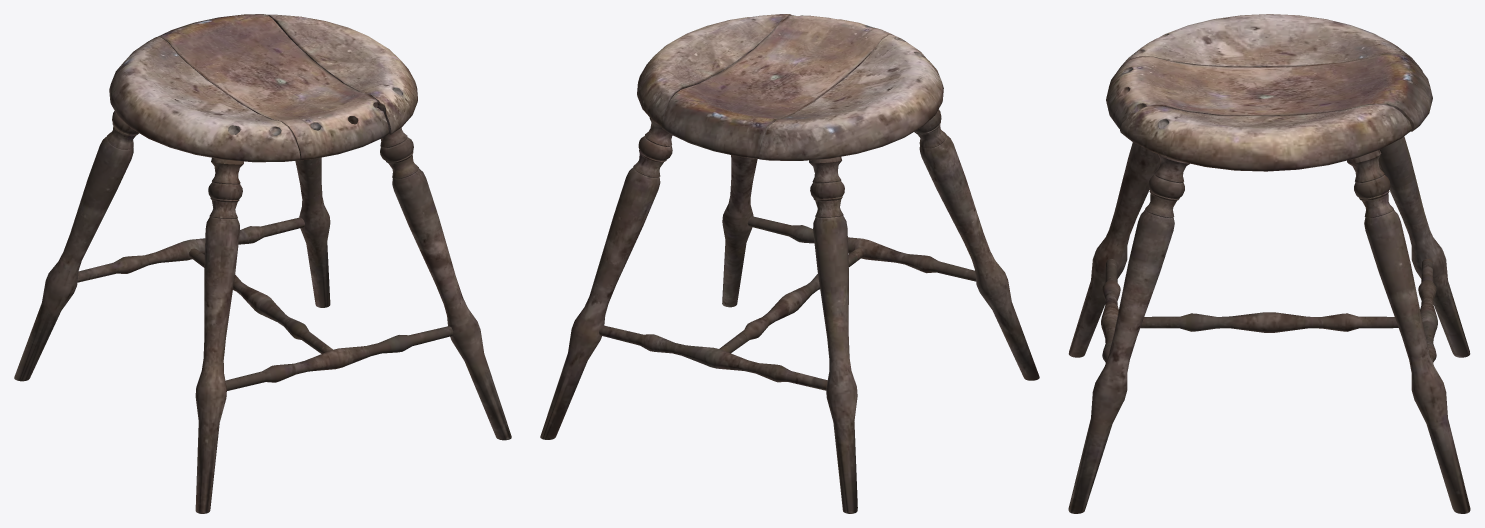
File: wooden_stool_01.glb
3 renders of one model, left to right at view 1: azimuth 30°, elevation 25°; view 2: azimuth 150°, elevation 25°; view 3: azimuth 270°, elevation 25°, orthographic. The views are drawn at different scales.
Parts seen in each view (by area): view 1: wooden_stool_01; view 2: wooden_stool_01; view 3: wooden_stool_01.
Part boxes in pixels (x1,y1,x2,y2): wooden_stool_01: (14, 14, 511, 513); wooden_stool_01: (540, 14, 1039, 513); wooden_stool_01: (1068, 14, 1470, 513).
Bounding box in the file's own units: 0.4246 × 0.4373 × 0.4424.
Materials: 1 (1 with a texture image).
